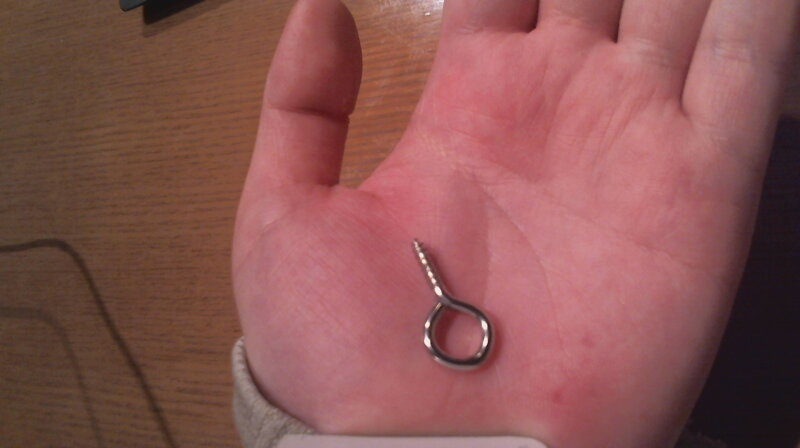O001: (403, 234, 497, 373)
